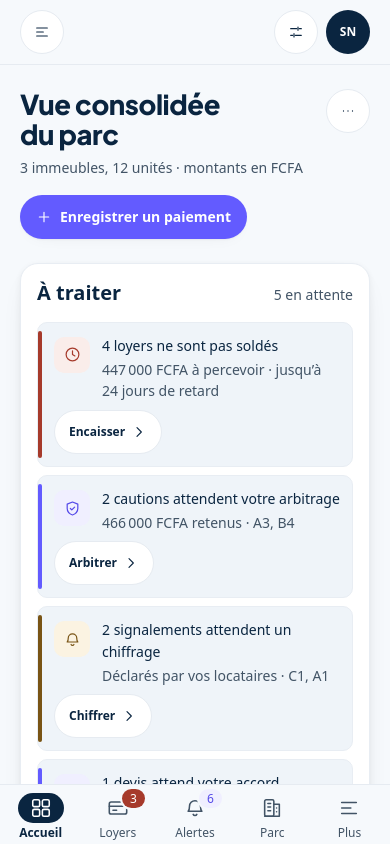
Scenario: tiroir de navigation › distingue ouvrir, fermer et replier
The image size is (390, 844).
Click the button named "Ouvrir la navigation" at (42, 32), box [20,10,64,54]
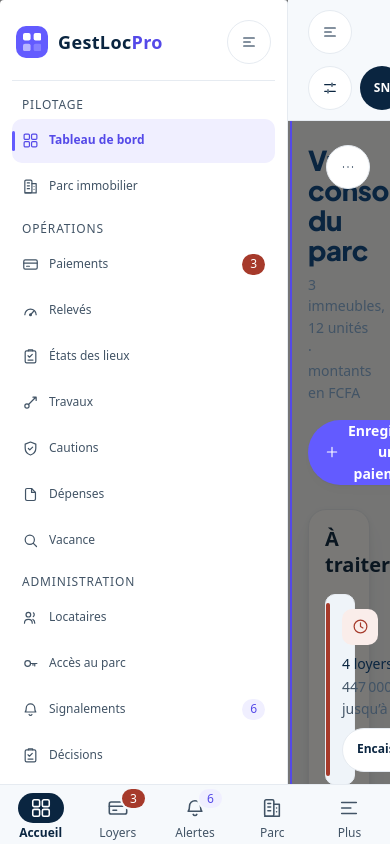
Now the button named "Fermer la navigation" is shown, box [227,20,271,64]
